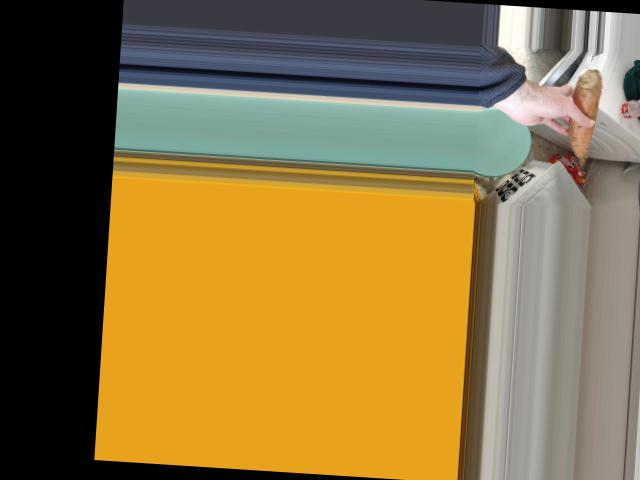sweet_potato: (567, 81, 593, 157)
